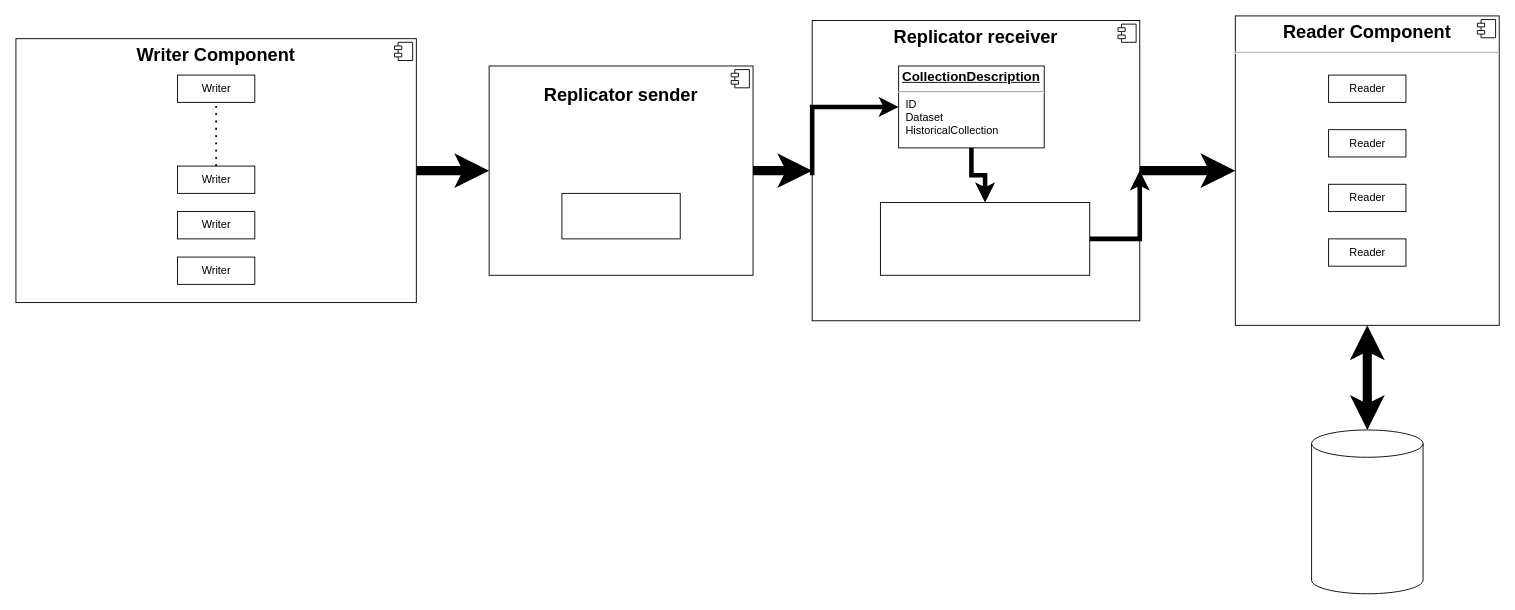
Image size: 1515x610. Some labels were removed from this diagram. Each missing label, with the centre of its shape:
"Buffer" goes at point (620, 215).
"Database" goes at point (1367, 511).
"DeltaCD List<CollectionDescription>add List<CollectionDescription>update" goes at point (985, 238).
